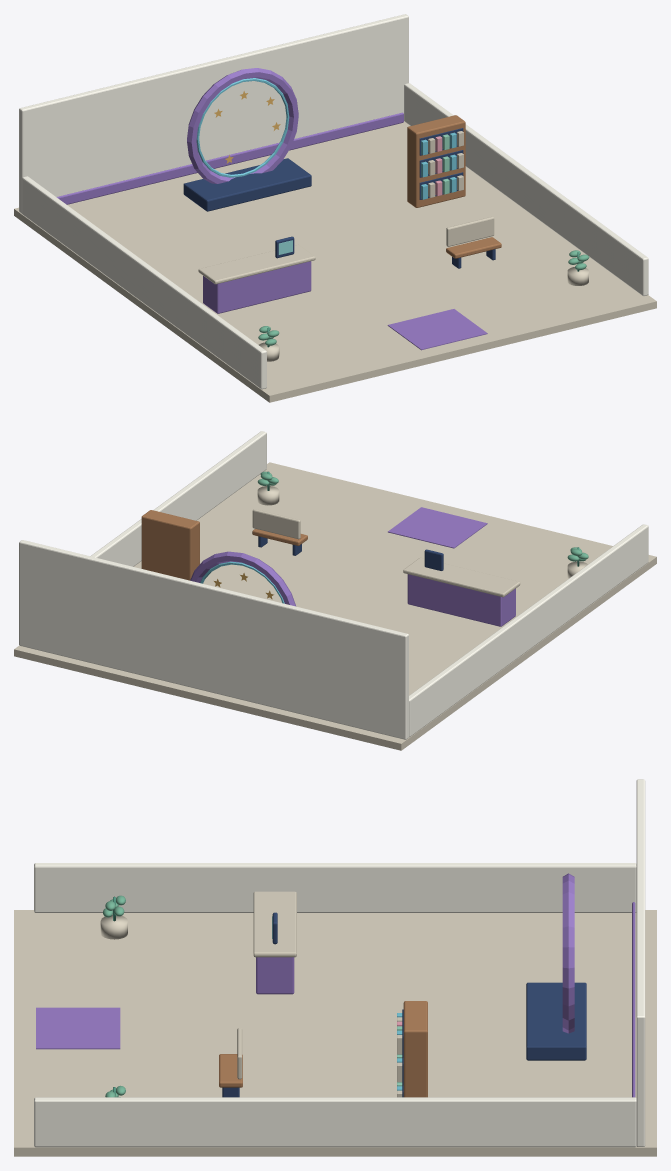
The model's file is tower_starspire-interior.glb.
The picture shows the model from 3 angles, top to bottom: view 1: azimuth 30°, elevation 25°; view 2: azimuth 150°, elevation 25°; view 3: azimuth 270°, elevation 25°; orthographic projection. The views are drawn at different scales.
Visible parts, largest first — view 1: tower_starspire · furnished cutaway interior; view 2: tower_starspire · furnished cutaway interior; view 3: tower_starspire · furnished cutaway interior.
Boxes of the visible parts, <box> form: tower_starspire · furnished cutaway interior: <box>14,14,656,402</box>; tower_starspire · furnished cutaway interior: <box>14,431,656,750</box>; tower_starspire · furnished cutaway interior: <box>14,779,656,1156</box>.
Bounding box in the file's own units: 14.02 × 4.31 × 16.
